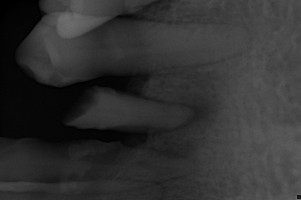Furcation Involvement: (163, 97, 218, 134), (149, 138, 205, 160)
